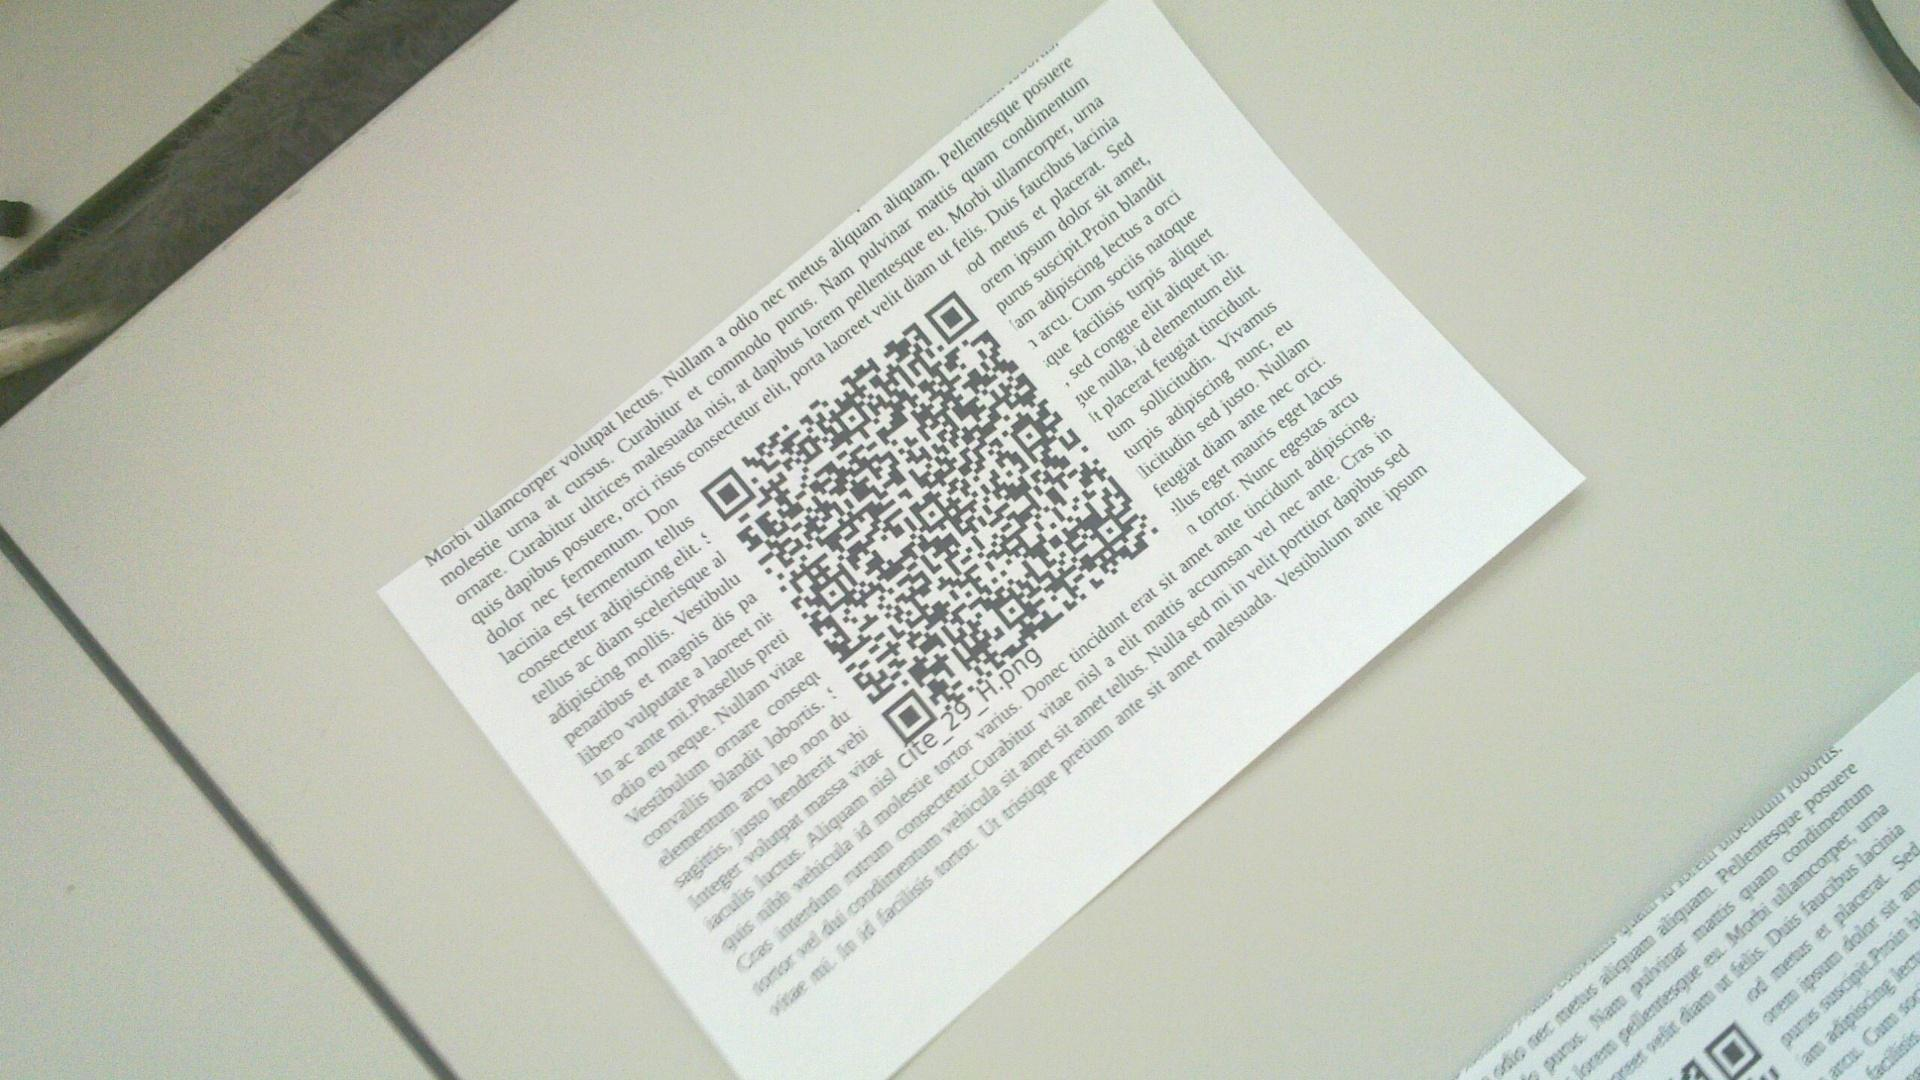Finder pattern: (695, 468, 756, 524), (878, 686, 934, 742), (919, 291, 978, 343)
